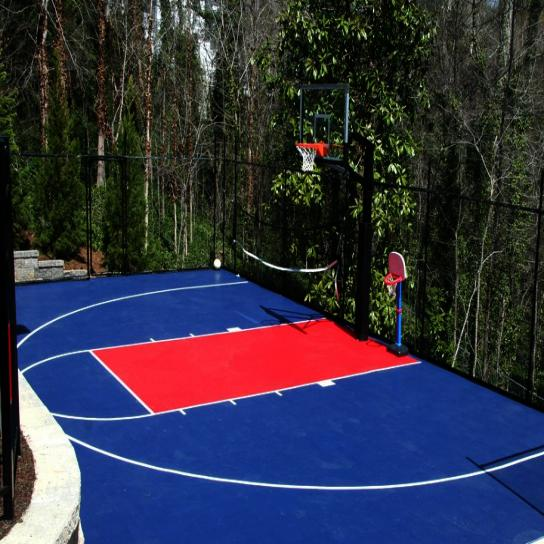basketball-hoop: (294, 140, 321, 172)
